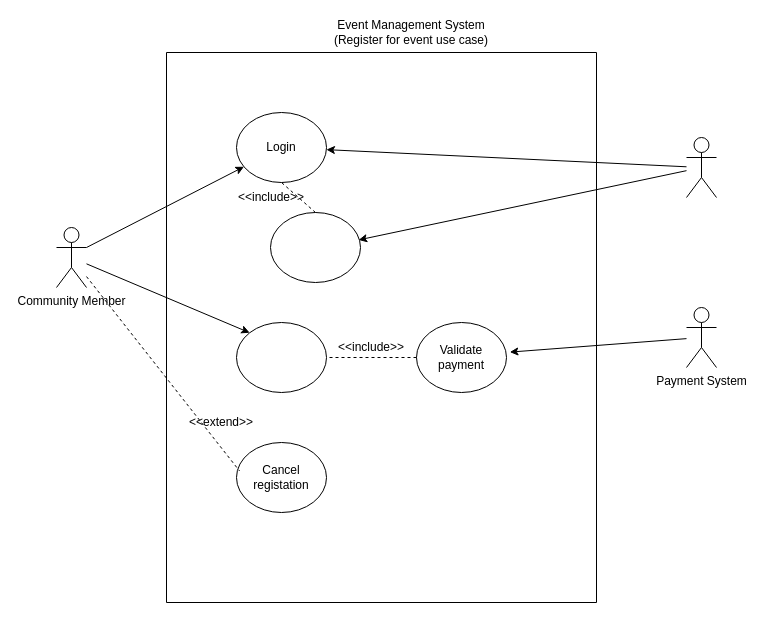
Image size: 775x620. Some labels were removed from this diagram. The shapes that lost their labels are listed below. From the top down, each one's box as (x1, y1, x2, y2) in pixels, then its label:
(686, 136, 716, 198): System Administrator
(270, 212, 360, 282): View Available Events
(236, 322, 326, 392): Enter payment Information
